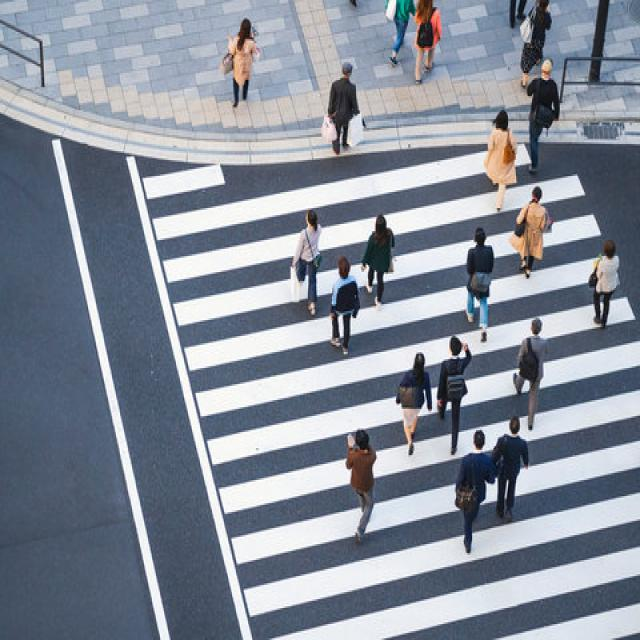Pedestrians: (455, 430, 496, 555), (318, 62, 371, 158), (436, 336, 476, 455), (512, 318, 548, 432), (345, 428, 379, 548), (395, 352, 433, 459), (220, 18, 264, 110), (480, 106, 517, 212), (512, 187, 553, 281), (526, 57, 558, 174), (494, 416, 526, 523), (466, 222, 494, 343), (292, 208, 323, 316), (328, 258, 361, 356), (588, 240, 623, 332), (364, 217, 397, 311), (517, 2, 552, 89), (415, 2, 441, 85), (382, 2, 414, 69)
